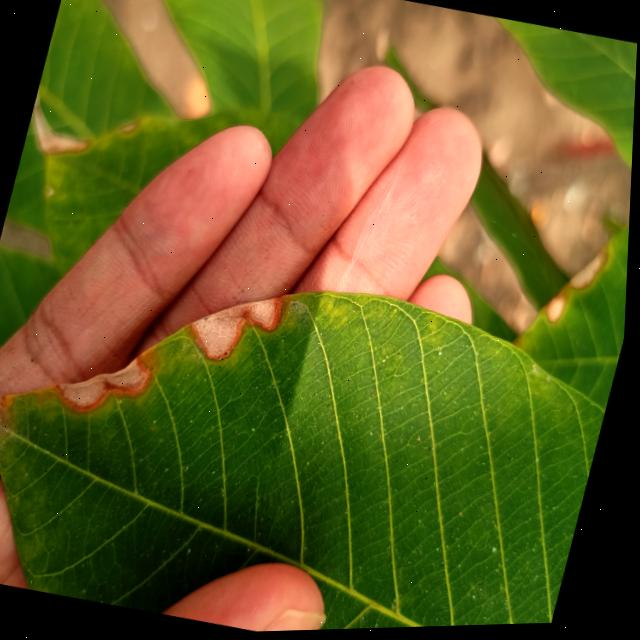Leaf-Blight: (185, 281, 288, 372), (53, 340, 159, 423), (0, 383, 13, 446)
